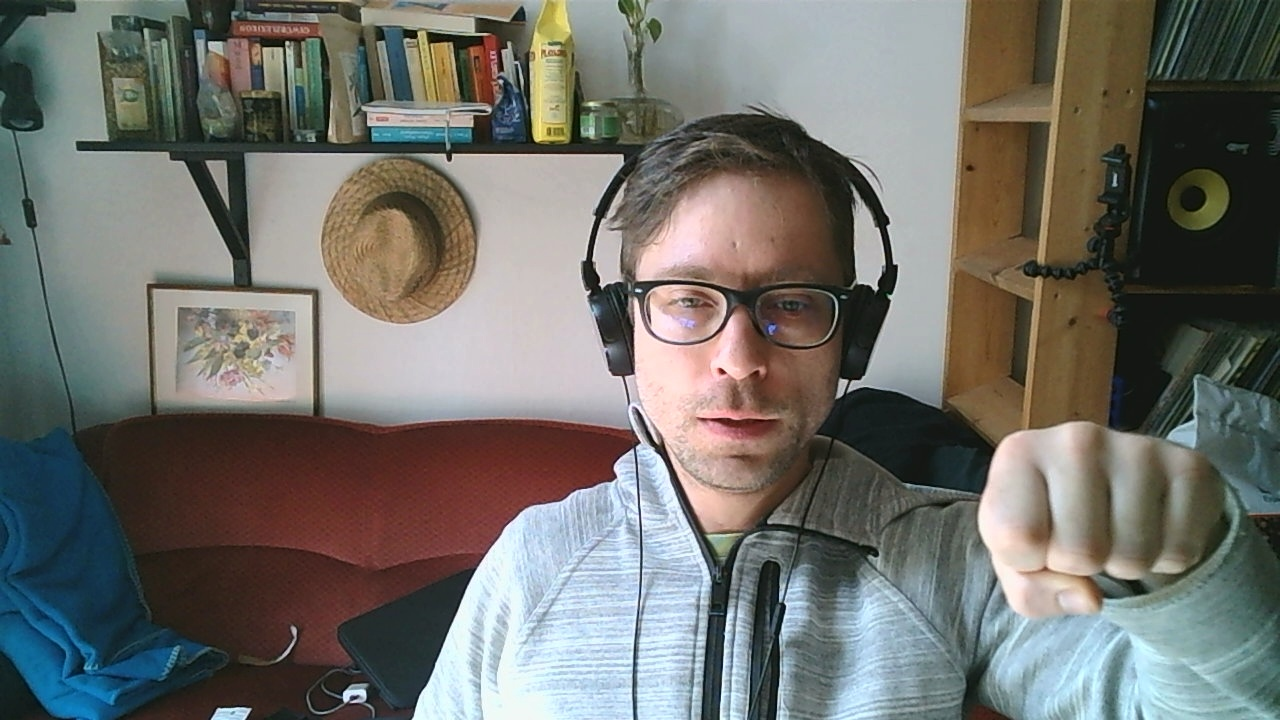yes: (979, 416, 1231, 623)
